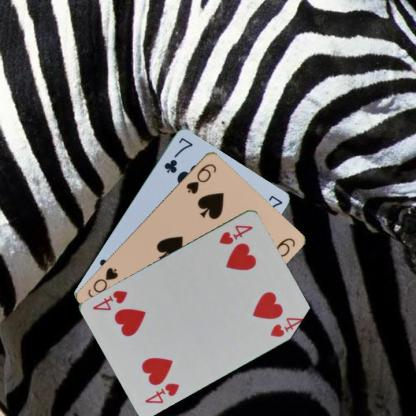4h: (142, 380, 181, 404), (216, 222, 254, 245)
6s: (183, 161, 218, 195)
7c: (161, 135, 194, 174)
